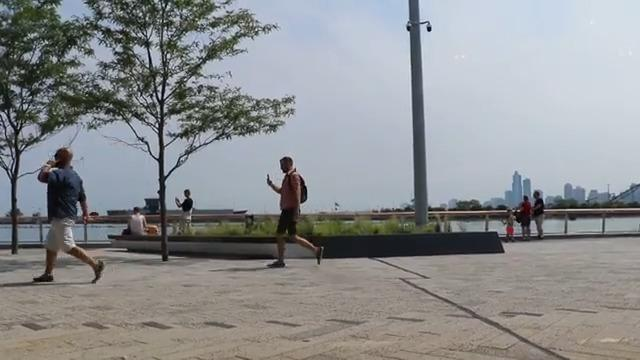no-helmet: (53, 148, 73, 168), (280, 156, 294, 174)
